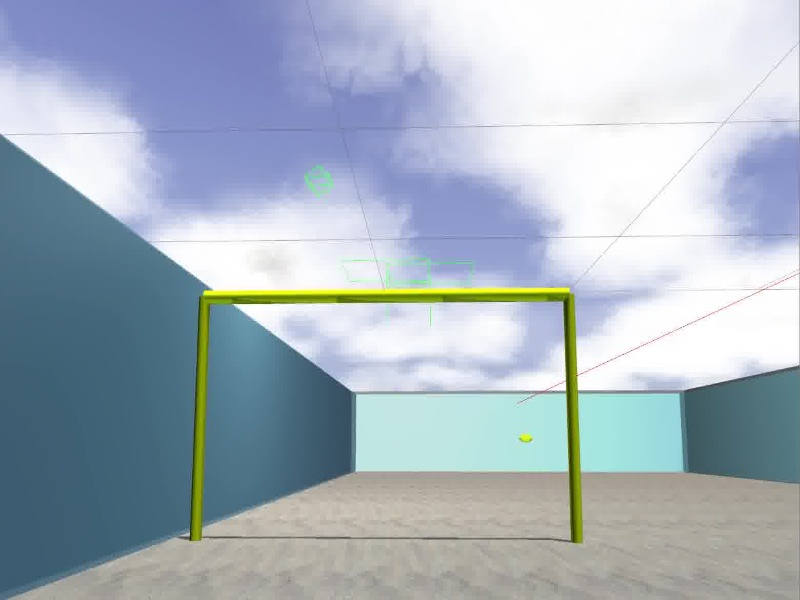gate: (189, 285, 585, 545)
